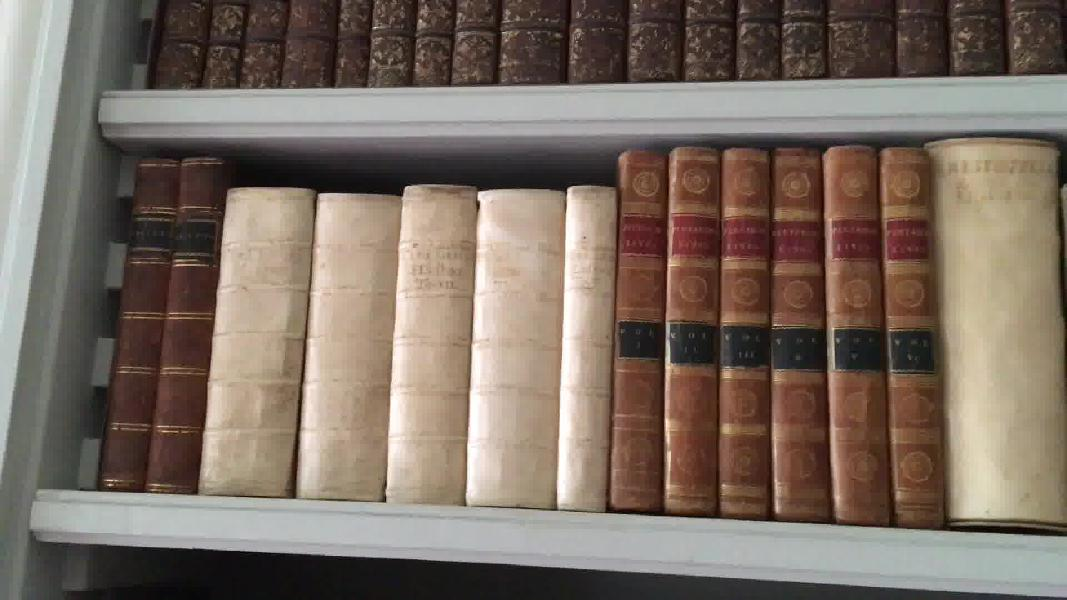Kk4-14: (920, 139, 1067, 533)
Kk4-1_2: (97, 157, 236, 496)
Kk4-3_7: (193, 180, 620, 516)
Kk4-8_13: (605, 144, 951, 532)
